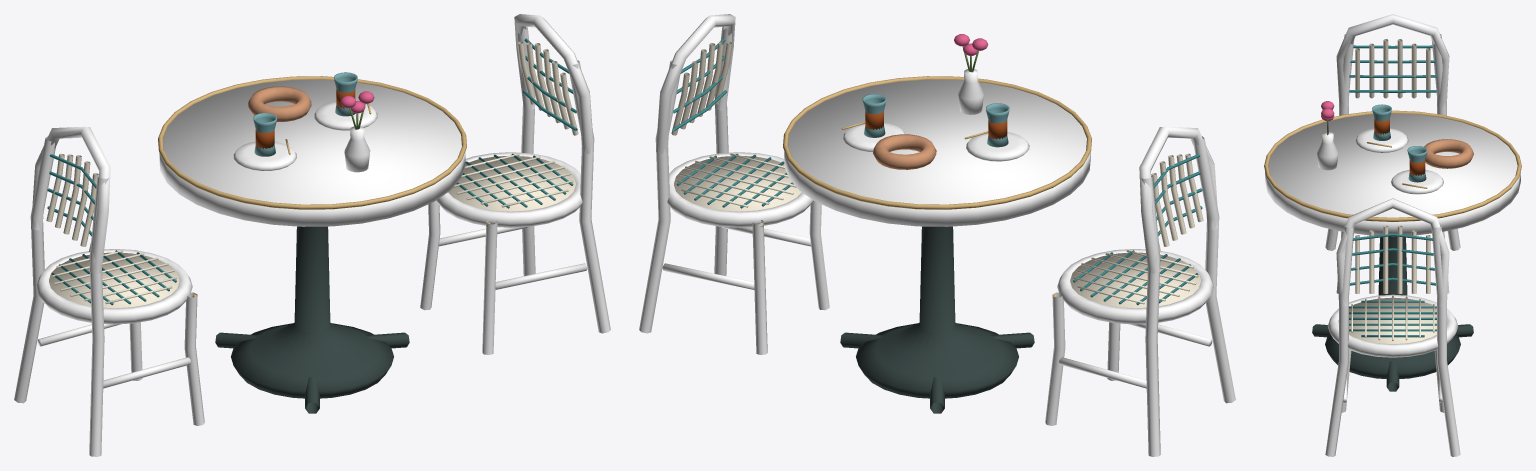
File: CafeSet.glb
The picture shows the model from 3 angles, left to right: view 1: azimuth 30°, elevation 25°; view 2: azimuth 150°, elevation 25°; view 3: azimuth 270°, elevation 25°; orthographic projection. The views are drawn at different scales.
Visible parts, largest first — view 1: RK_CafeSet_RK_Wood, RK_CafeSet_RK_Stone, RK_CafeSet_RK_CanvasCream, RK_CafeSet_RK_Iron, RK_CafeSet_RK_Brass, RK_CafeSet_RK_CanvasBlue, RK_CafeSet_RK_Iznik, RK_CafeSet_RK_Terracotta, RK_CafeSet_LC_Glass; view 2: RK_CafeSet_RK_Stone, RK_CafeSet_RK_Wood, RK_CafeSet_RK_CanvasCream, RK_CafeSet_RK_Iron, RK_CafeSet_RK_Brass, RK_CafeSet_RK_CanvasBlue, RK_CafeSet_RK_Iznik, RK_CafeSet_RK_Terracotta, RK_CafeSet_LC_Glass, RK_CafeSet_RK_Tea; view 3: RK_CafeSet_RK_Stone, RK_CafeSet_RK_Wood, RK_CafeSet_RK_CanvasCream, RK_CafeSet_RK_Iron, RK_CafeSet_RK_CanvasBlue, RK_CafeSet_RK_Brass, RK_CafeSet_RK_Iznik, RK_CafeSet_RK_Terracotta, RK_CafeSet_LC_Glass, RK_CafeSet_RK_Tea.
Boxes of the visible parts, x1,y1,x2,y2 form: RK_CafeSet_RK_Wood: (14, 14, 610, 456); RK_CafeSet_RK_Stone: (159, 79, 465, 226); RK_CafeSet_RK_CanvasCream: (46, 41, 578, 308); RK_CafeSet_RK_Iron: (215, 226, 409, 413); RK_CafeSet_RK_Brass: (158, 76, 490, 297); RK_CafeSet_RK_CanvasBlue: (47, 38, 577, 305); RK_CafeSet_RK_Iznik: (233, 101, 377, 172); RK_CafeSet_RK_Terracotta: (248, 86, 311, 121); RK_CafeSet_LC_Glass: (253, 72, 357, 156); RK_CafeSet_RK_Stone: (784, 79, 1090, 226); RK_CafeSet_RK_Wood: (639, 14, 1235, 456); RK_CafeSet_RK_CanvasCream: (671, 41, 1203, 308); RK_CafeSet_RK_Iron: (840, 226, 1034, 413); RK_CafeSet_RK_Brass: (759, 76, 1091, 297); RK_CafeSet_RK_CanvasBlue: (672, 38, 1202, 305); RK_CafeSet_RK_Iznik: (843, 69, 1029, 161); RK_CafeSet_RK_Terracotta: (873, 134, 936, 169); RK_CafeSet_LC_Glass: (862, 94, 1009, 147); RK_CafeSet_RK_Tea: (865, 111, 1007, 139); RK_CafeSet_RK_Stone: (1265, 113, 1520, 236); RK_CafeSet_RK_Wood: (1325, 14, 1460, 456); RK_CafeSet_RK_CanvasCream: (1338, 39, 1447, 344); RK_CafeSet_RK_Iron: (1312, 236, 1473, 391); RK_CafeSet_RK_CanvasBlue: (1349, 45, 1436, 337); RK_CafeSet_RK_Brass: (1264, 110, 1521, 221); RK_CafeSet_RK_Iznik: (1317, 128, 1443, 194); RK_CafeSet_RK_Terracotta: (1424, 139, 1473, 168); RK_CafeSet_LC_Glass: (1372, 104, 1427, 182); RK_CafeSet_RK_Tea: (1374, 119, 1425, 175).
Size of the model in its own units: 1.88 by 1.02 by 0.948.
